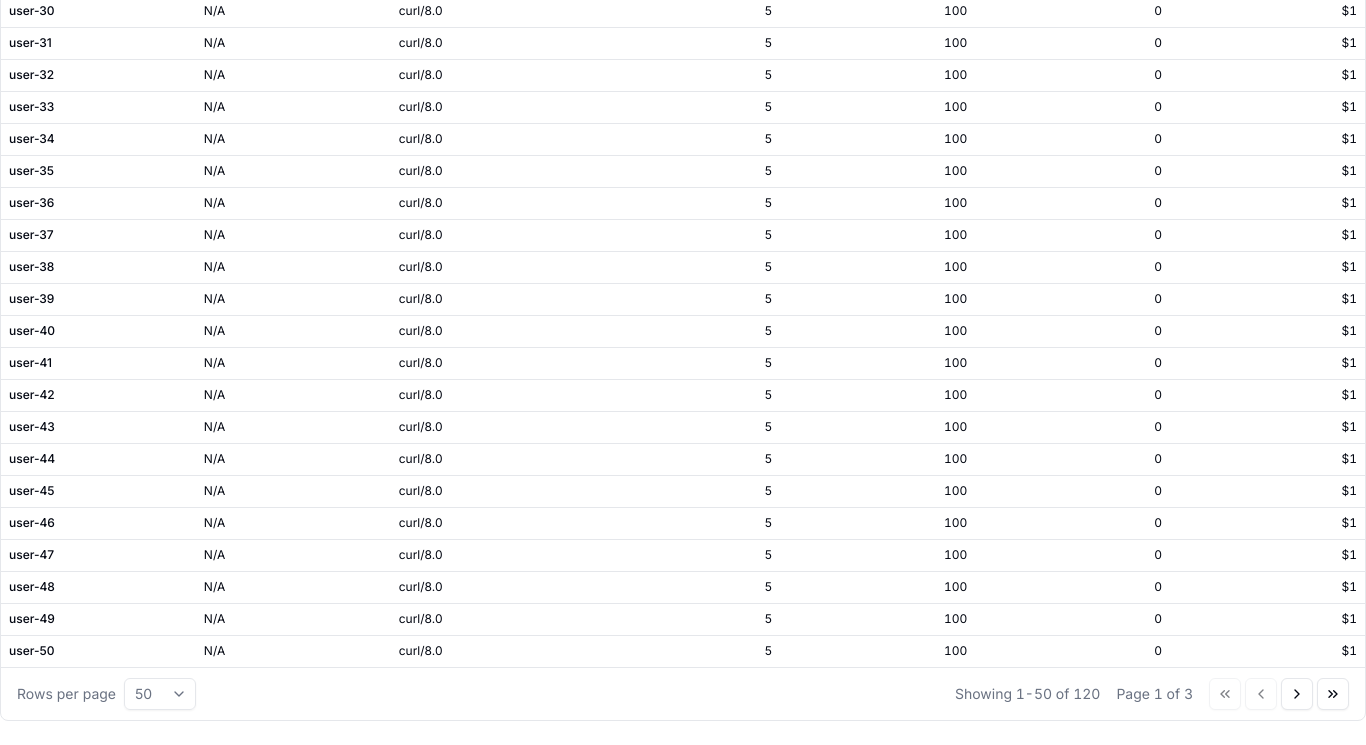
Test: PerUserUsage › server pagination › falls back to the last existing page when the data shrinks under the current page
This screenshot has width=1366, height=745.
(page scrolled)
Click the button with test id "pagination-next". click: (1297, 694)
box: 1281,678 -> 1313,710
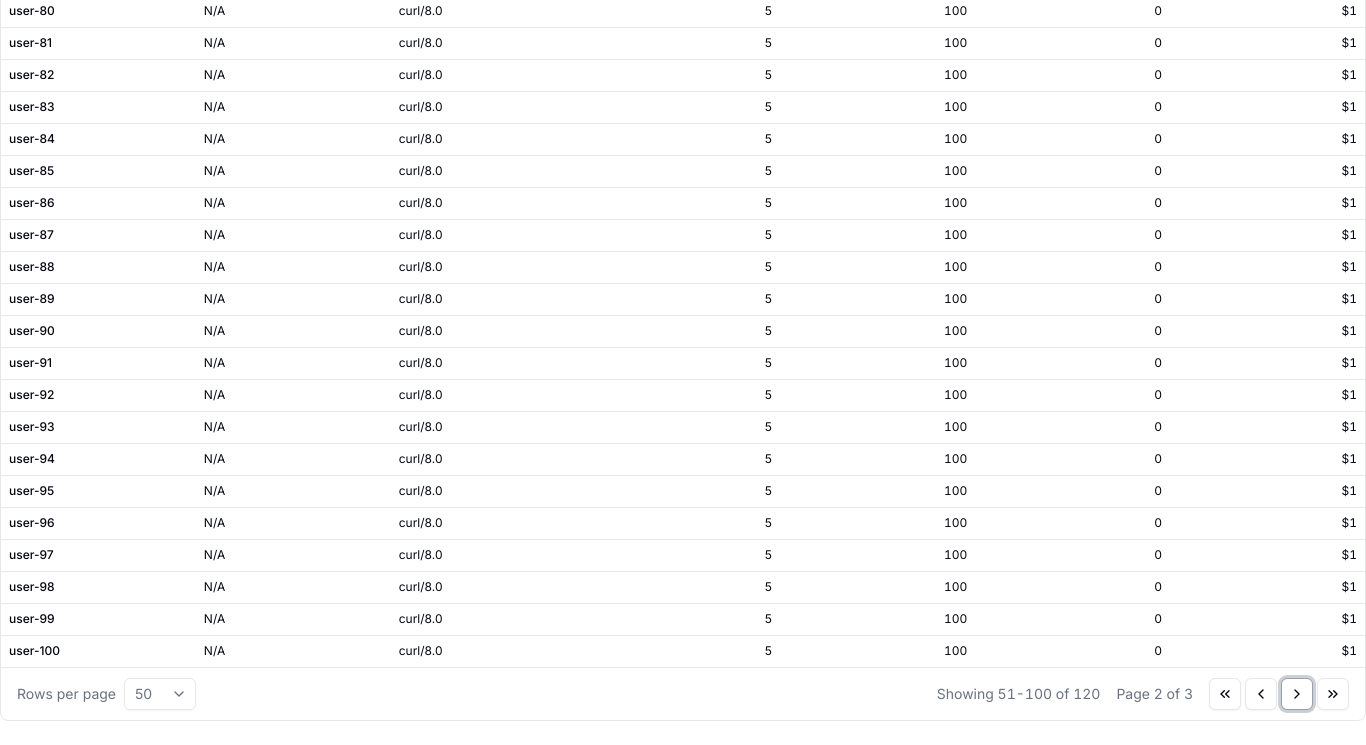
Click the button with test id "pagination-next". click: (1297, 694)
box: 1281,678 -> 1313,710
(page scrolled)
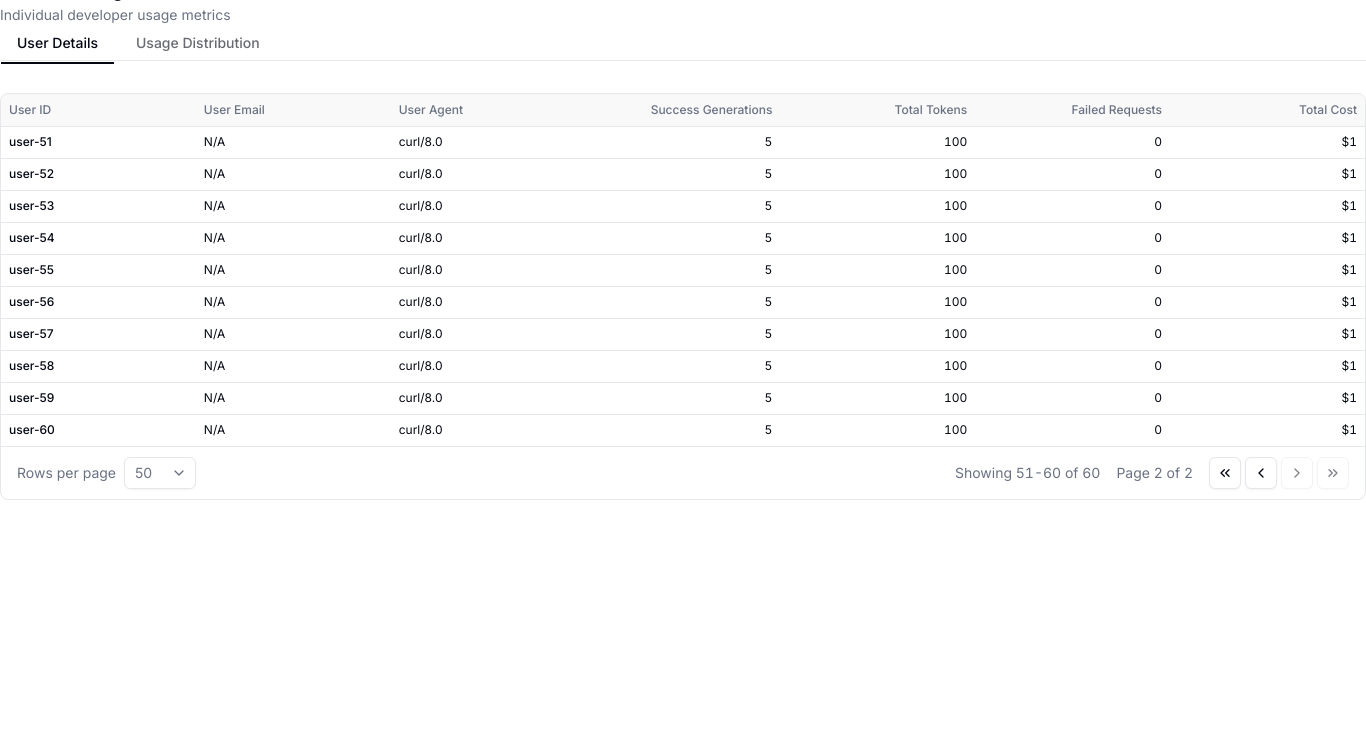
Expected: the text "user-60" is shown, 9,422 -> 55,437
Expected: the number of rows is 11
Expected: the text with test id "pagination-range" reads "Showing 51-60 of 60", 955,464 -> 1100,481
